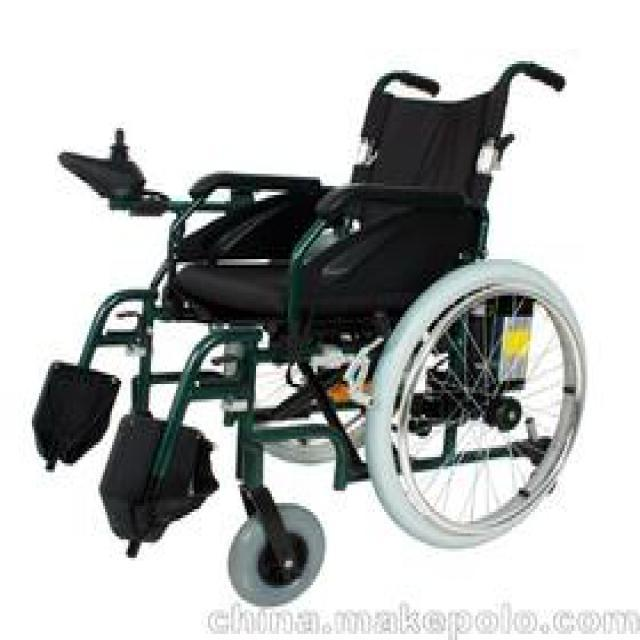wheelchair: (22, 58, 610, 606)
